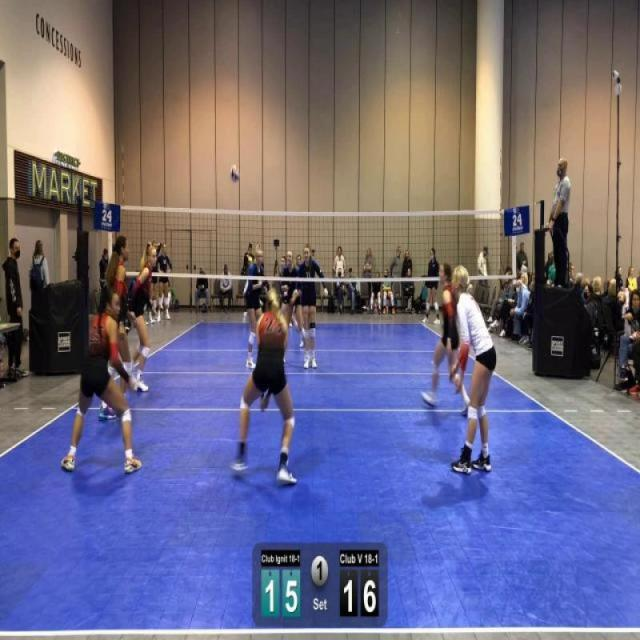volleyball: (229, 162, 241, 185)
